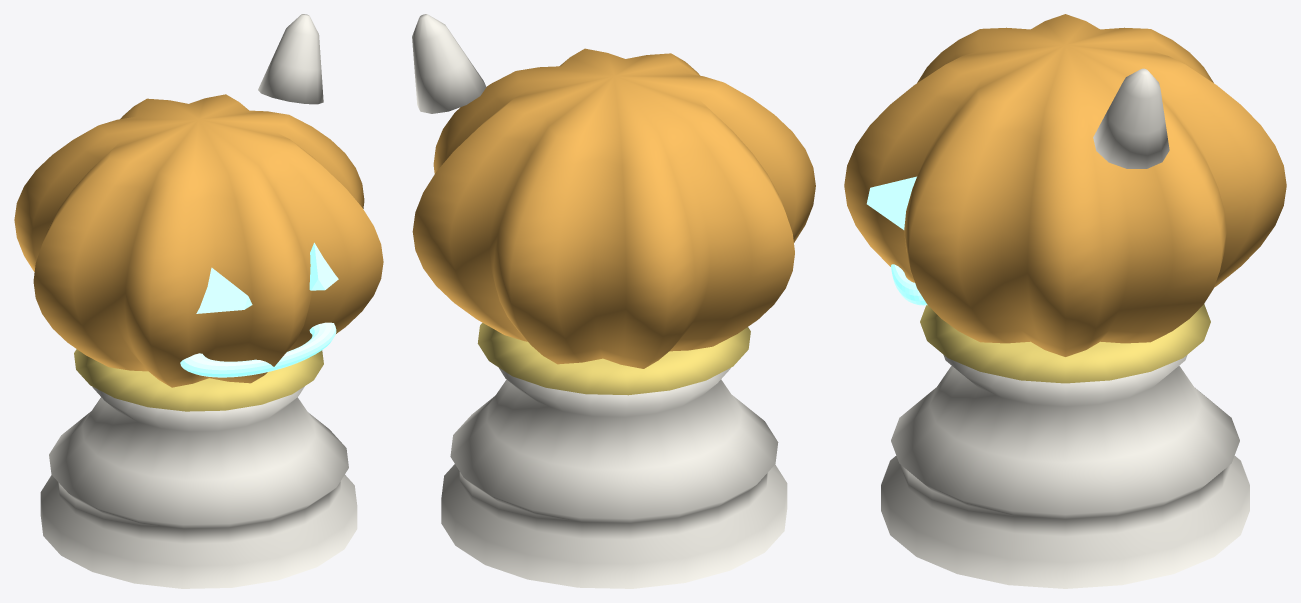
File: pawn_w.glb
The picture shows the model from 3 angles, left to right: view 1: azimuth 30°, elevation 25°; view 2: azimuth 150°, elevation 25°; view 3: azimuth 270°, elevation 25°; orthographic projection. The views are drawn at different scales.
Visible parts, largest first — view 1: Pawn_Pump, Pawn_Base, Pawn_Collar, Pawn_Stem, Hình Xuyến.018, Hình Nón.116, Hình Nón.117; view 2: Pawn_Pump, Pawn_Base, Pawn_Collar, Pawn_Stem; view 3: Pawn_Pump, Pawn_Base, Pawn_Collar, Pawn_Stem, Hình Nón.117, Hình Xuyến.018.
Part boxes in pixels (box(x1,y1,x2,y2)): Pawn_Pump: box(14, 94, 383, 387); Pawn_Base: box(40, 386, 357, 588); Pawn_Collar: box(74, 349, 323, 411); Pawn_Stem: box(258, 14, 323, 104); Hình Xuyến.018: box(180, 322, 336, 377); Hình Nón.116: box(196, 267, 252, 313); Hình Nón.117: box(309, 242, 338, 290); Pawn_Pump: box(412, 48, 815, 368); Pawn_Base: box(441, 368, 787, 588); Pawn_Collar: box(477, 323, 750, 395); Pawn_Stem: box(412, 14, 486, 113); Pawn_Pump: box(844, 14, 1286, 356); Pawn_Base: box(881, 355, 1249, 588); Pawn_Collar: box(920, 304, 1210, 383); Pawn_Stem: box(1093, 68, 1169, 168); Hình Nón.117: box(866, 176, 916, 229); Hình Xuyến.018: box(891, 264, 927, 305).
Bounding box in the file's own units: 0.456 × 0.5912 × 0.456.
